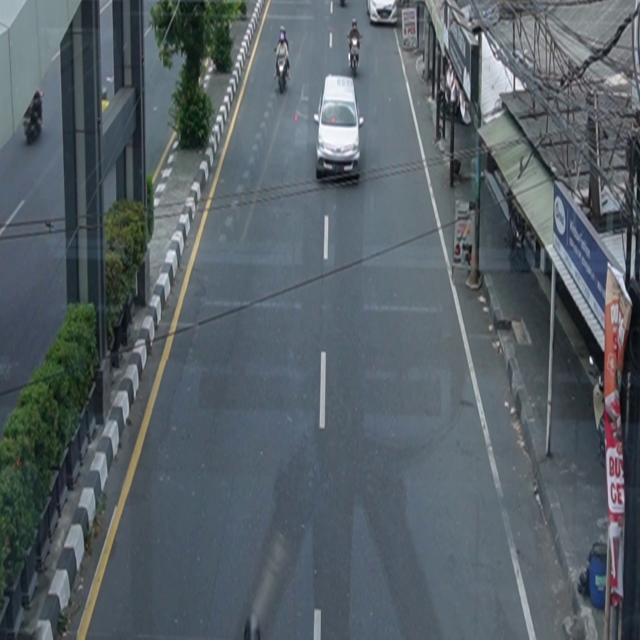car: (314, 75, 365, 183), (367, 1, 398, 26)
